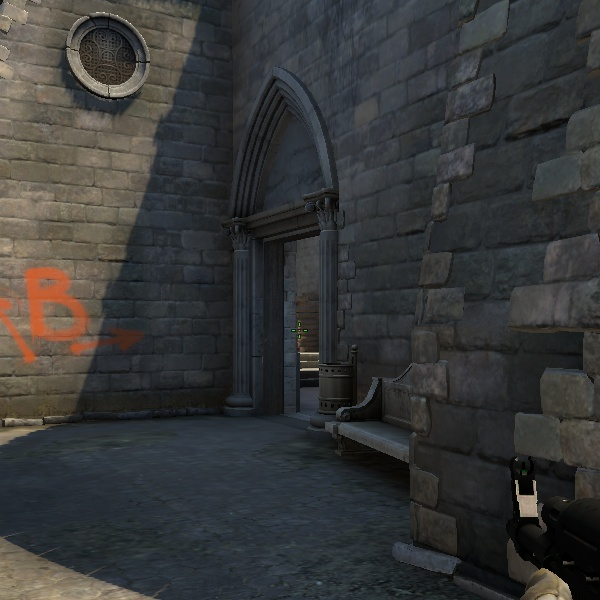ct_body: (240, 0, 594, 589)
